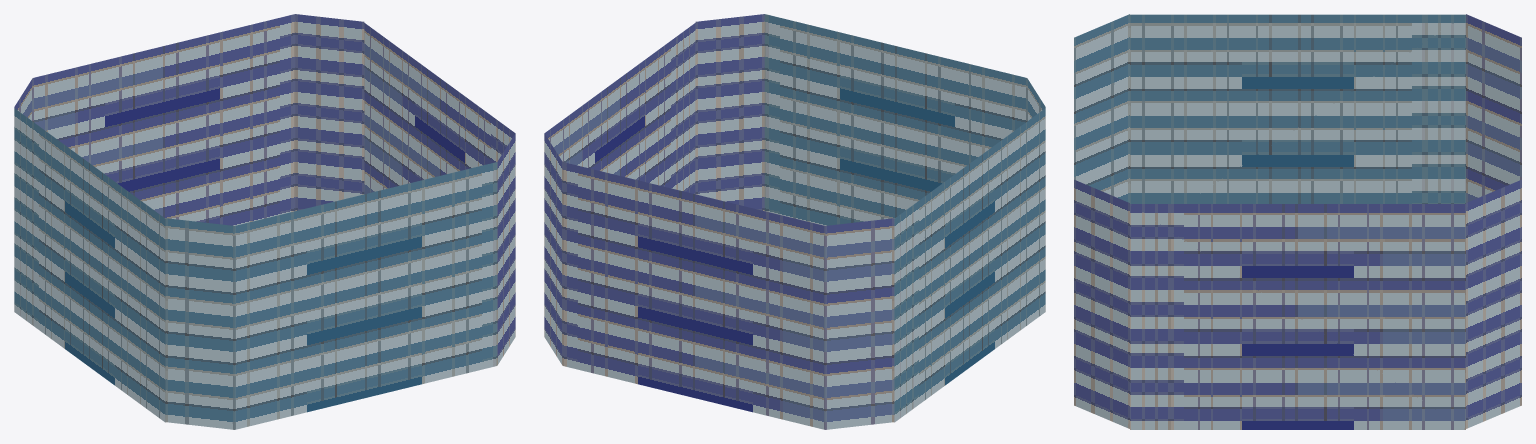
3 views of the same model, side by side, from view 1: azimuth 30°, elevation 25°; view 2: azimuth 150°, elevation 25°; view 3: azimuth 270°, elevation 25° (orthographic). The views are drawn at different scales.
Visible parts, largest first — view 1: obj-117; view 2: obj-117; view 3: obj-117.
Part boxes in pixels (bbox=[...]): obj-117: bbox=[14, 14, 515, 429]; obj-117: bbox=[544, 14, 1045, 429]; obj-117: bbox=[1074, 14, 1521, 429].
Bounding box in the file's own units: 3.45 × 1.93 × 3.45.
1 material, 1 textured.
